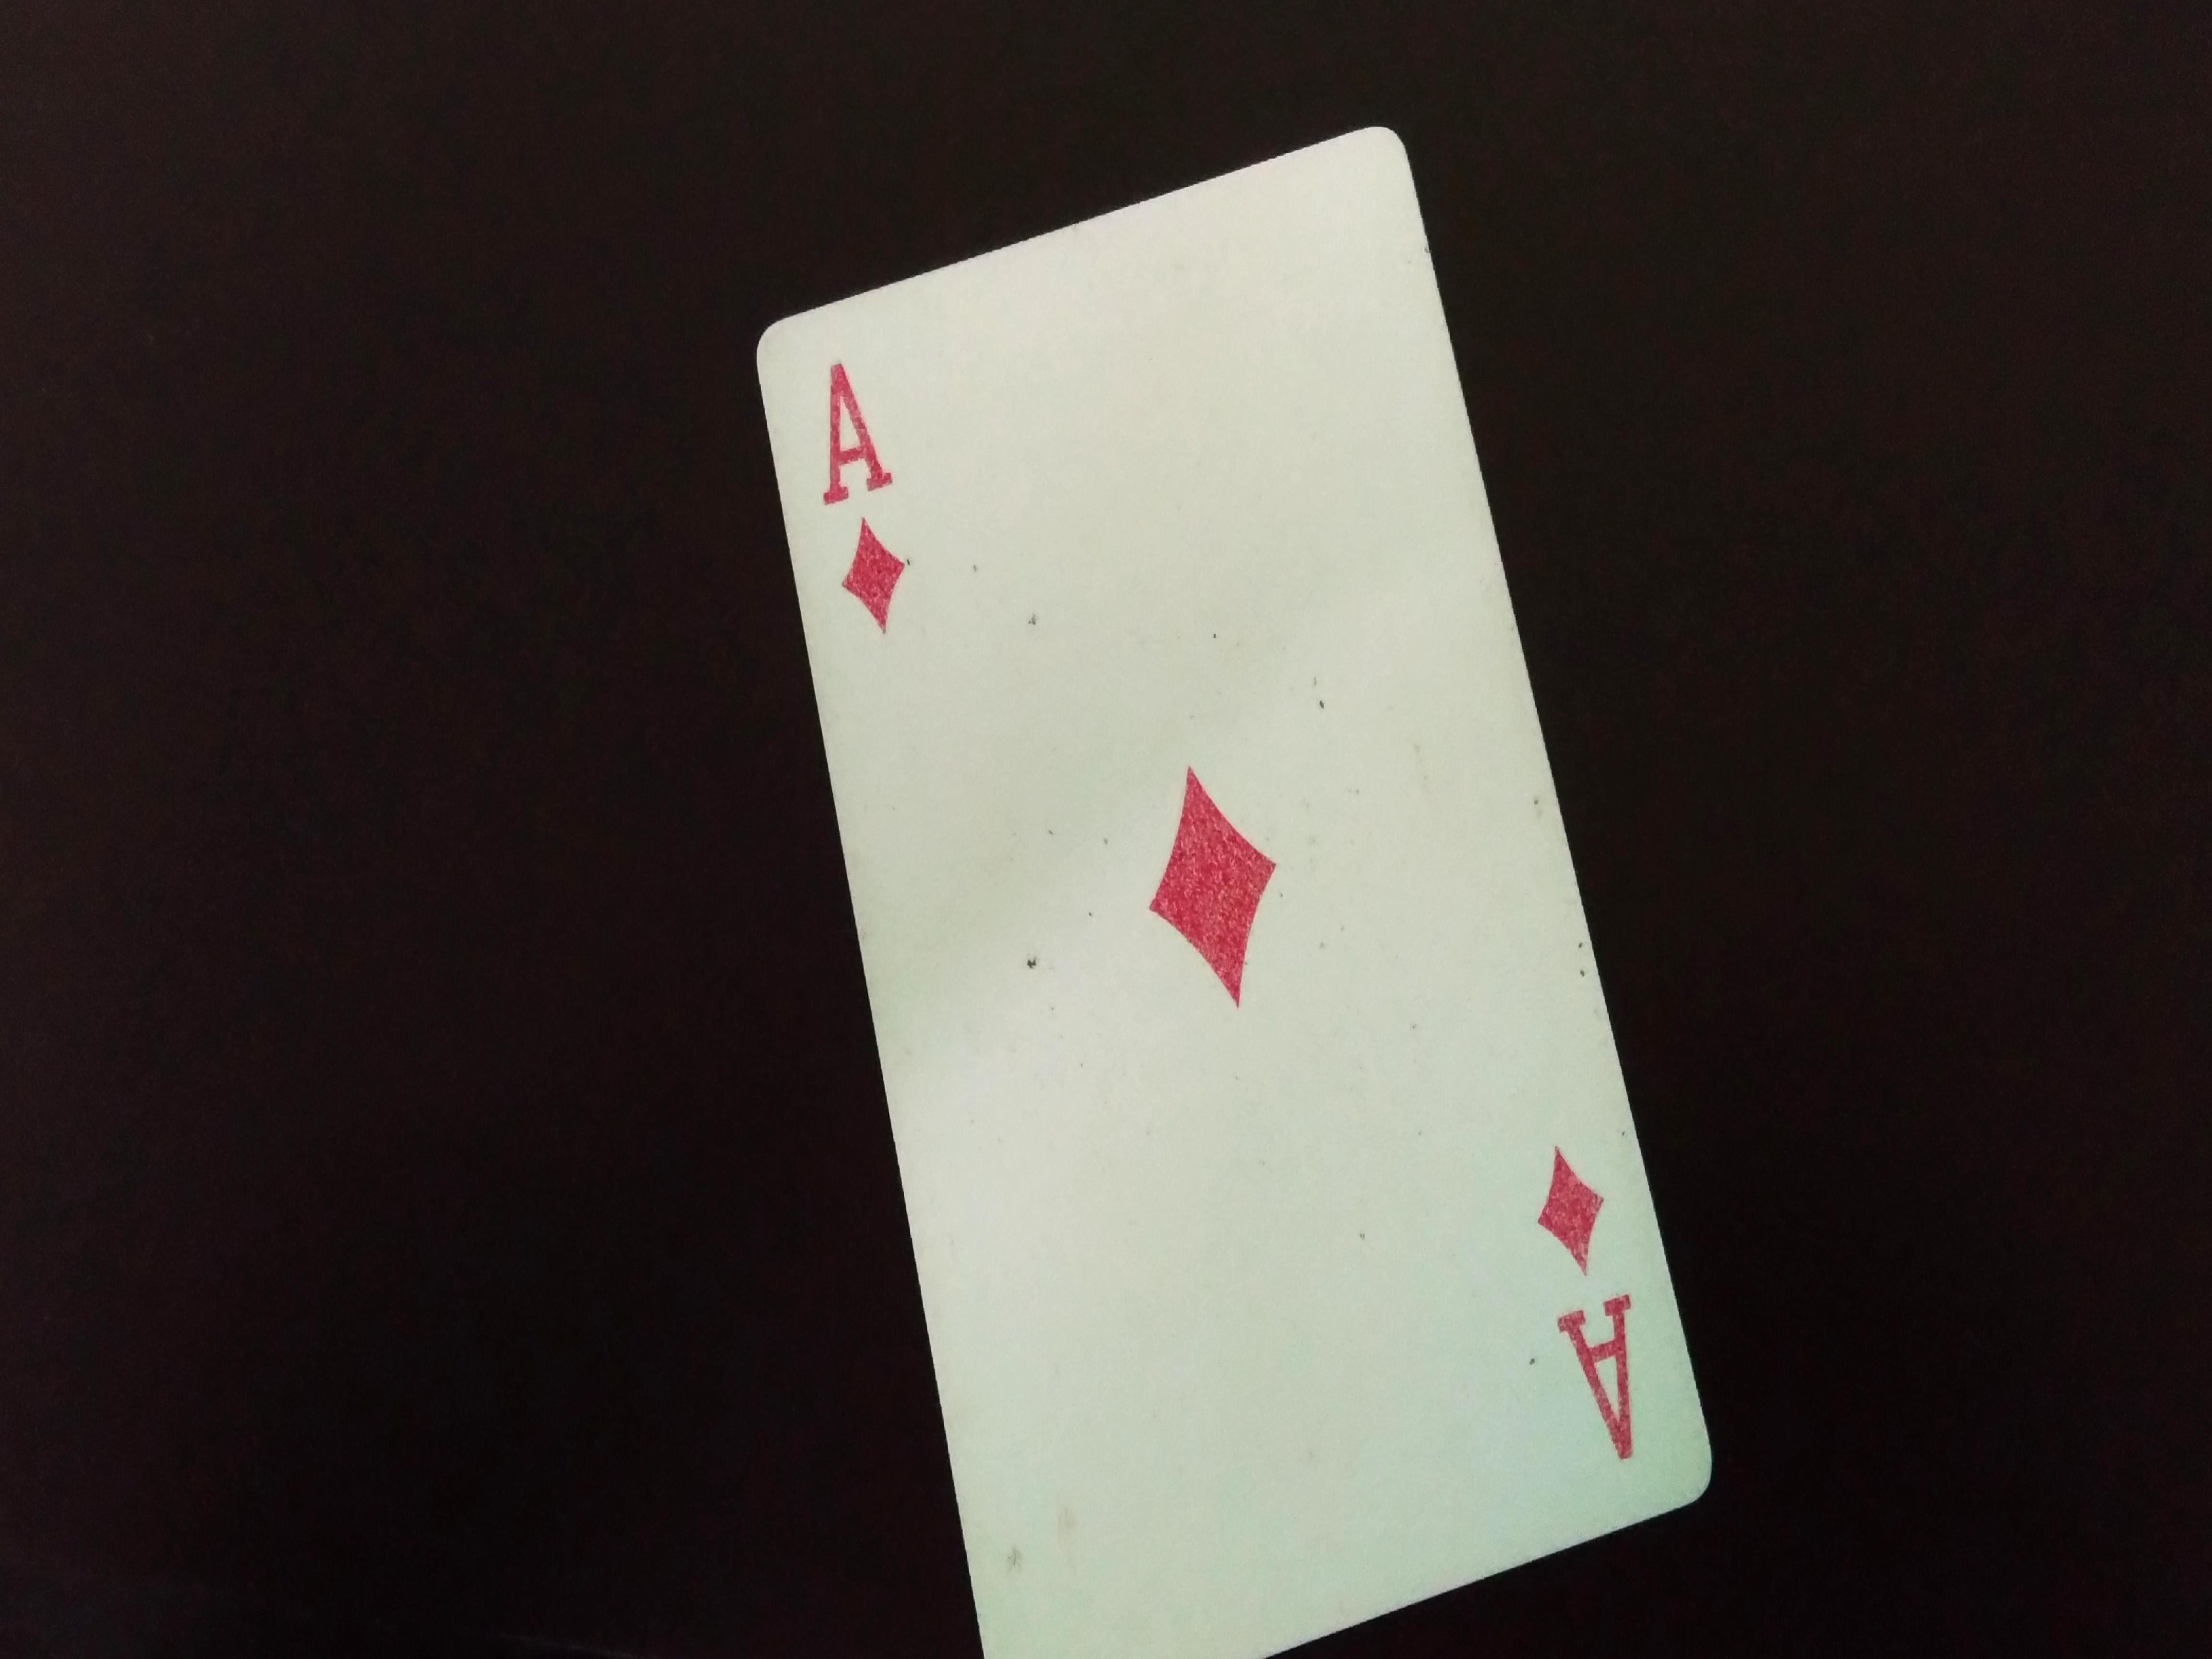AD: (799, 336, 923, 664)
